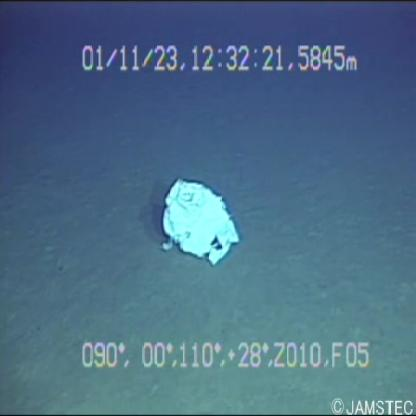Rác: (148, 176, 244, 269)
